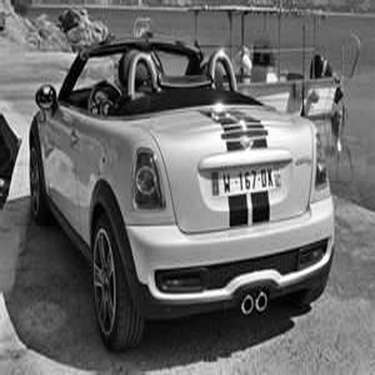car: (19, 30, 343, 336)
